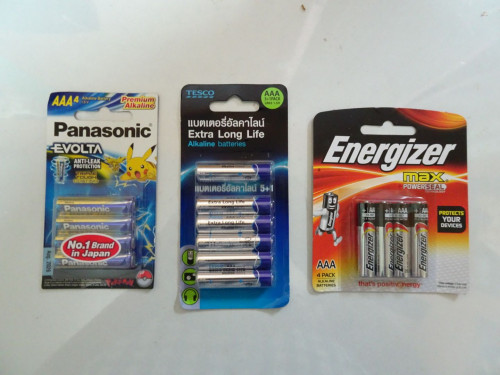Battery: (194, 160, 275, 184), (193, 194, 274, 218), (193, 212, 274, 236), (193, 234, 274, 258), (194, 248, 275, 272), (194, 267, 275, 291), (54, 193, 135, 217), (53, 213, 134, 237), (408, 200, 430, 280), (390, 199, 412, 279), (372, 201, 394, 281), (355, 200, 377, 280)
